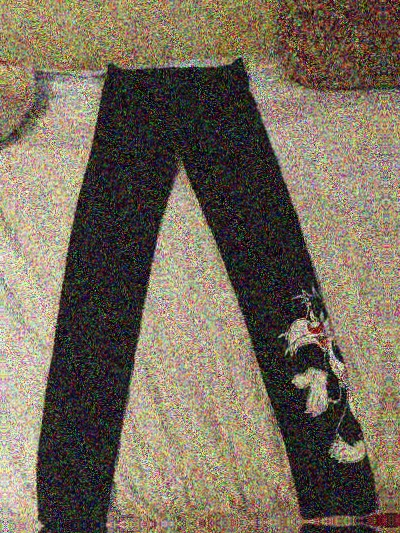Pants: (20, 26, 381, 521), (394, 20, 400, 515), (28, 526, 389, 533)
